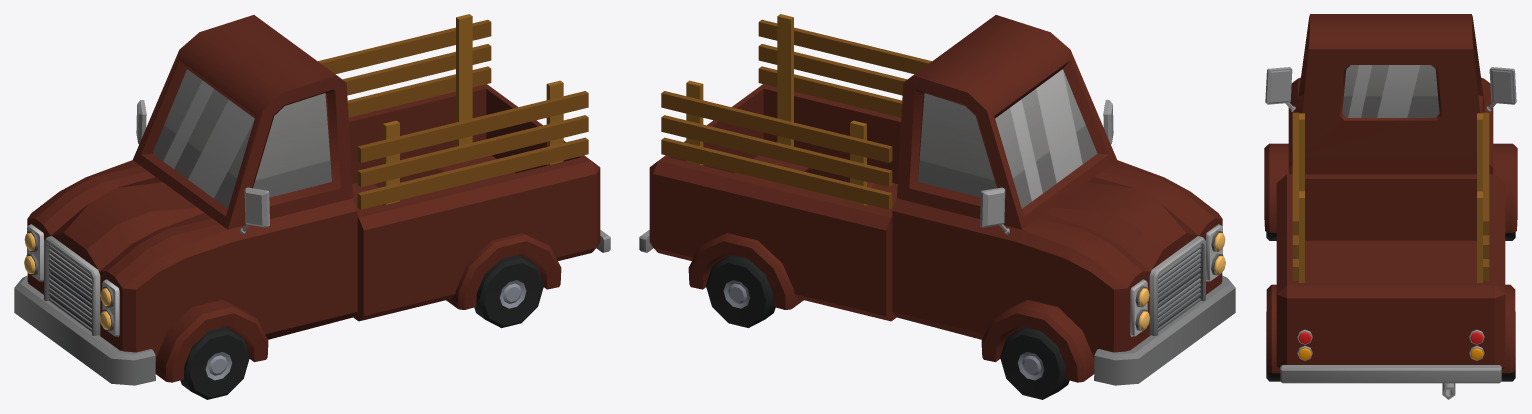
Rendered from Car_12_W.gltf.
The picture shows the model from 3 angles, left to right: view 1: azimuth 30°, elevation 25°; view 2: azimuth 150°, elevation 25°; view 3: azimuth 270°, elevation 25°; orthographic projection. The views are drawn at different scales.
Parts seen in each view (by area): view 1: Car_12_W, RL, FL; view 2: Car_12_W, RR, FR; view 3: Car_12_W.
Boxes of the visible parts, <box> form: Car_12_W: <box>14,14,610,385</box>; RL: <box>474,255,544,327</box>; FL: <box>180,327,249,399</box>; Car_12_W: <box>639,14,1235,385</box>; RR: <box>705,255,775,327</box>; FR: <box>1000,327,1069,399</box>; Car_12_W: <box>1264,14,1517,399</box>.
Size of the model in its own units: 3.82 by 2.01 by 1.73.
4 materials, 4 textured.
